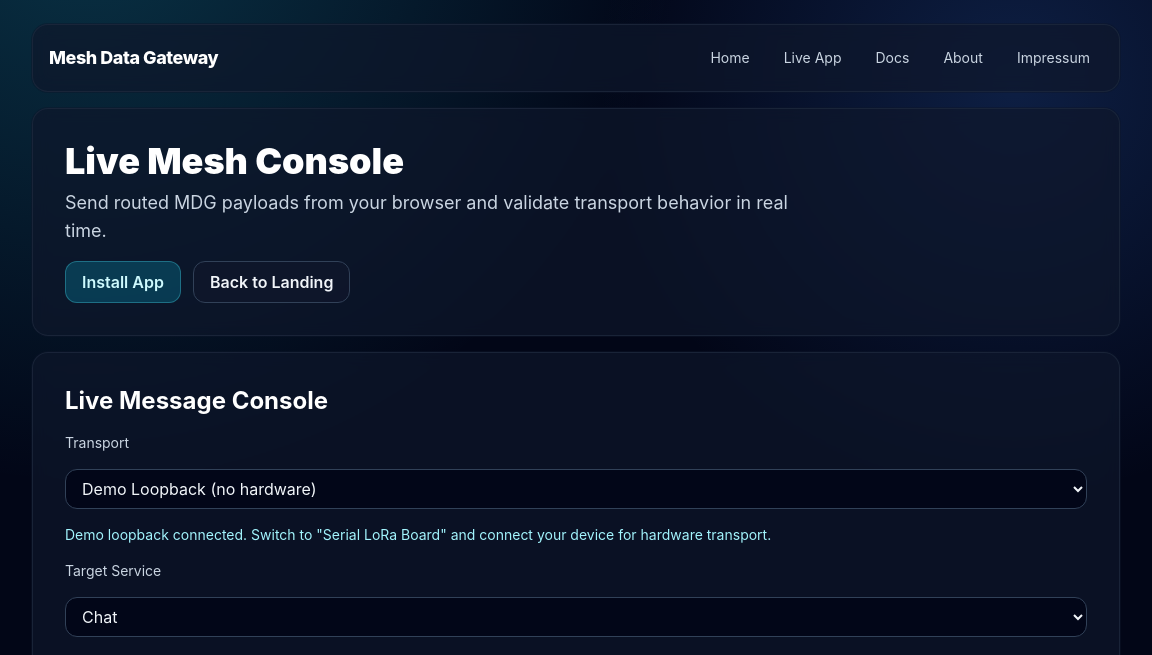
Test case: App › shows generic serial connect error when thrown value is not an Error
Step 1. Select "Serial LoRa Board" in the dropdown labelled "Transport" → (576, 489), box [65,469,1087,509]
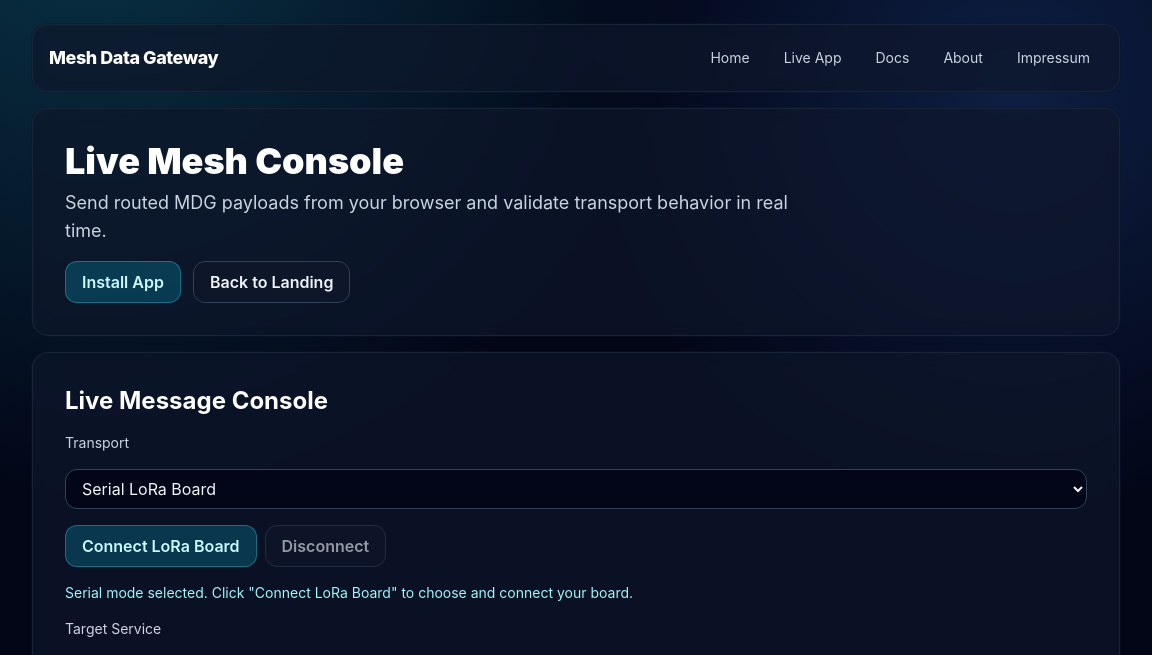
Expected: the text "Serial mode selected. Click \"Connect LoRa Board\"" is shown, [65,584,633,601]
Step 2. Click the button "Connect LoRa Board" → click(161, 546), box [65,525,257,567]
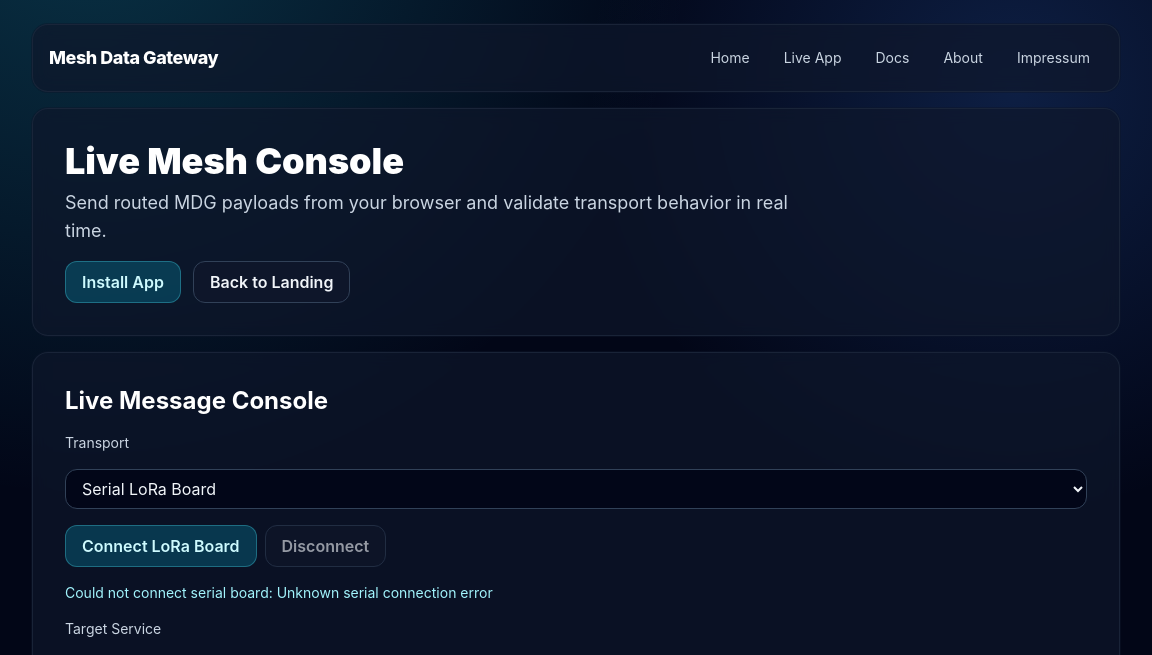
Expected: the text "Could not connect serial board: Unknown serial connection error" is shown, [65,584,493,601]
